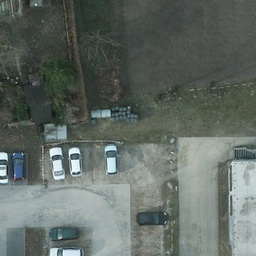car: (47, 225, 80, 241), (137, 210, 168, 225), (68, 145, 82, 178), (102, 145, 117, 174), (51, 146, 62, 179), (11, 151, 23, 180), (0, 149, 7, 183)
